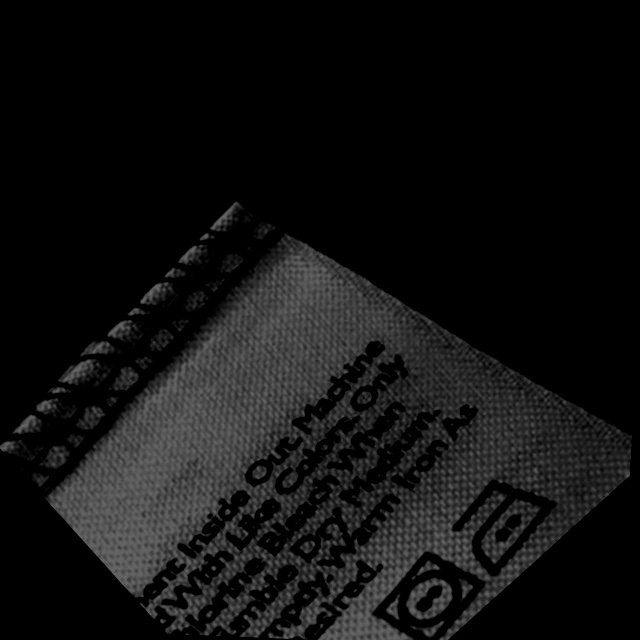iron_medium: (453, 478, 563, 575)
tumble_dry_medium: (375, 552, 488, 640)
